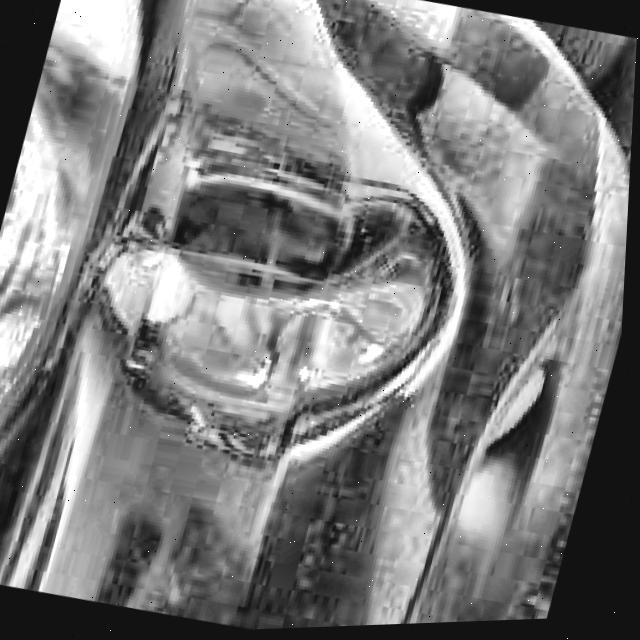bumper_dent: (114, 146, 477, 488)
